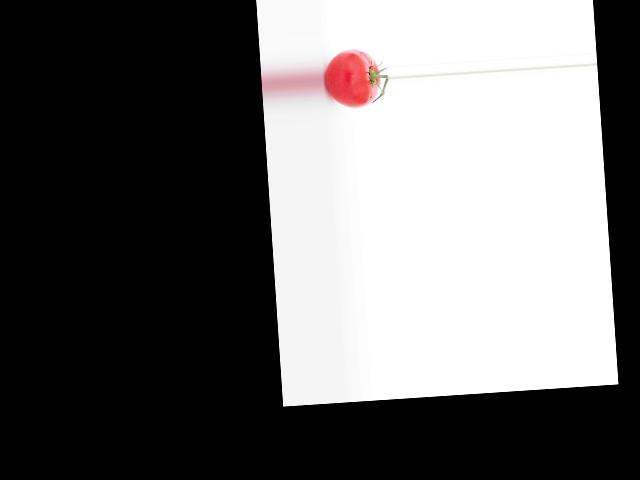tomato: (323, 46, 381, 109)
